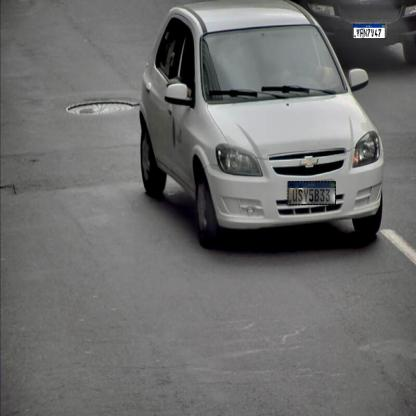PlacaM: (287, 181, 336, 205), (353, 23, 385, 39)
